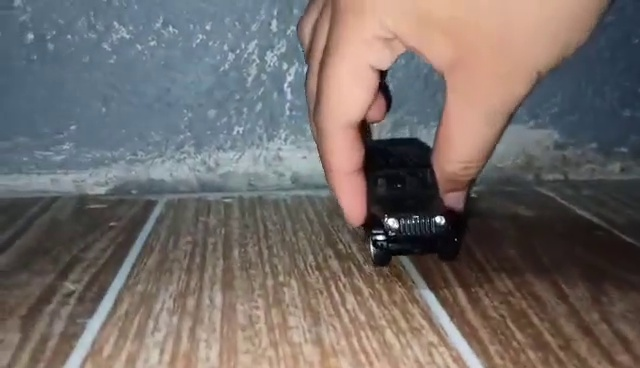car: (346, 138, 463, 268)
hand: (298, 1, 593, 230)
